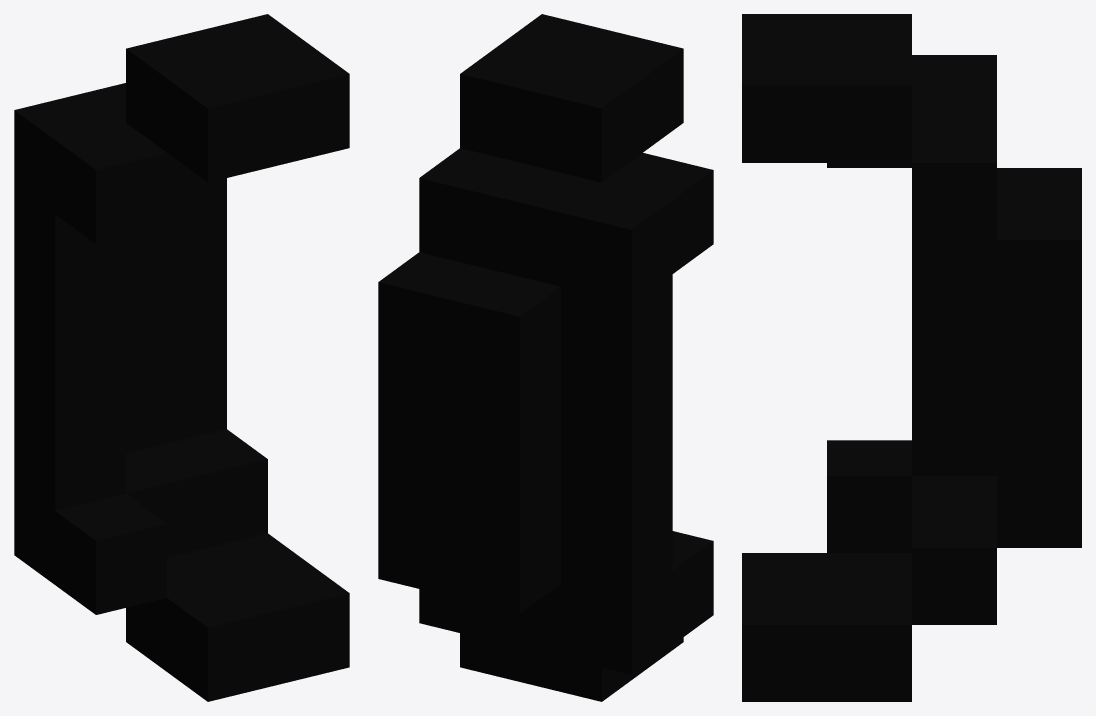
The model's file is LargeGauge_Empty_Left.002.fbx.
The picture shows the model from 3 angles, left to right: view 1: azimuth 30°, elevation 25°; view 2: azimuth 150°, elevation 25°; view 3: azimuth 270°, elevation 25°; orthographic projection. The views are drawn at different scales.
Visible parts, largest first — view 1: LargeGauge_Empty_Left.002; view 2: LargeGauge_Empty_Left.002; view 3: LargeGauge_Empty_Left.002.
Part boxes in pixels (<box>): LargeGauge_Empty_Left.002: <box>14,14,349,701</box>; LargeGauge_Empty_Left.002: <box>378,14,713,701</box>; LargeGauge_Empty_Left.002: <box>742,14,1081,701</box>.
Size of the model in its own units: 0.3 by 0.8 by 0.4.
